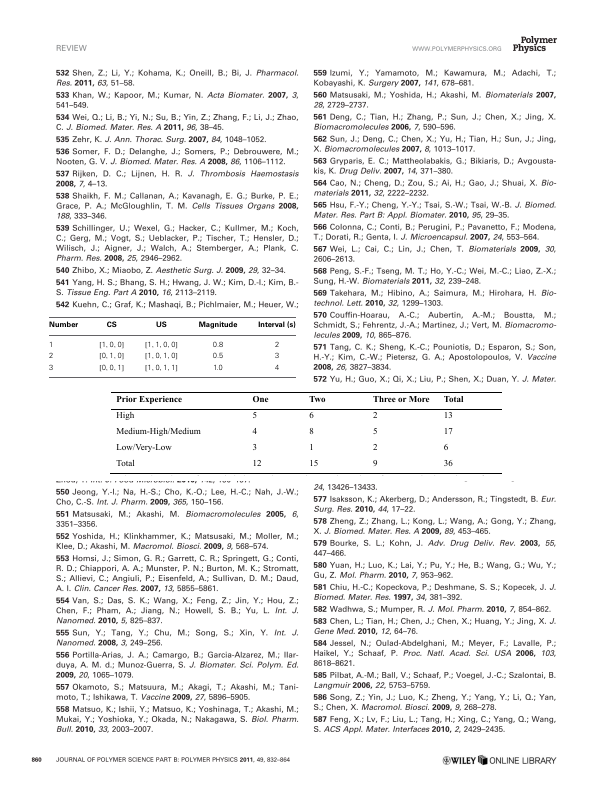borderless: (110, 390, 502, 473), (48, 315, 296, 377)
cell: (115, 427, 201, 437), (115, 394, 182, 404), (371, 394, 430, 404), (115, 443, 172, 453), (197, 321, 238, 330), (257, 321, 296, 330), (143, 340, 178, 349), (143, 363, 178, 372), (47, 321, 79, 330), (143, 352, 178, 360), (98, 340, 125, 349), (98, 363, 125, 372), (442, 394, 464, 404), (98, 352, 125, 360), (115, 411, 135, 421), (115, 459, 135, 469), (251, 394, 269, 404), (308, 394, 326, 404), (154, 321, 167, 330), (442, 411, 453, 421), (442, 427, 453, 437), (251, 459, 262, 469), (308, 459, 319, 469), (442, 459, 453, 469), (105, 321, 117, 330), (211, 340, 224, 348), (211, 352, 224, 359), (212, 363, 223, 371), (371, 411, 378, 421), (371, 427, 378, 437), (371, 443, 378, 453), (442, 443, 449, 453), (371, 459, 378, 469), (251, 411, 257, 421), (308, 411, 314, 421), (251, 427, 257, 437), (308, 427, 314, 437), (251, 443, 257, 453), (308, 443, 314, 453), (47, 340, 54, 348), (273, 340, 279, 348), (48, 363, 54, 371), (273, 363, 279, 371), (48, 352, 54, 359), (273, 352, 279, 359)
